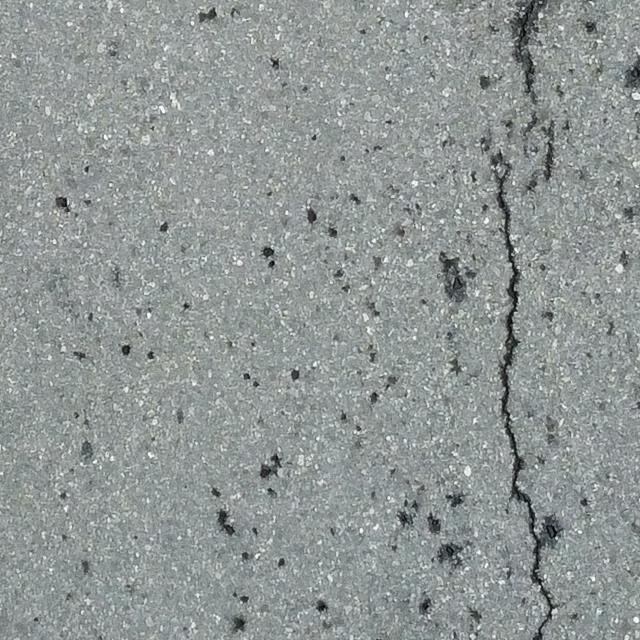LongitudinalCrack: (490, 155, 554, 639)
